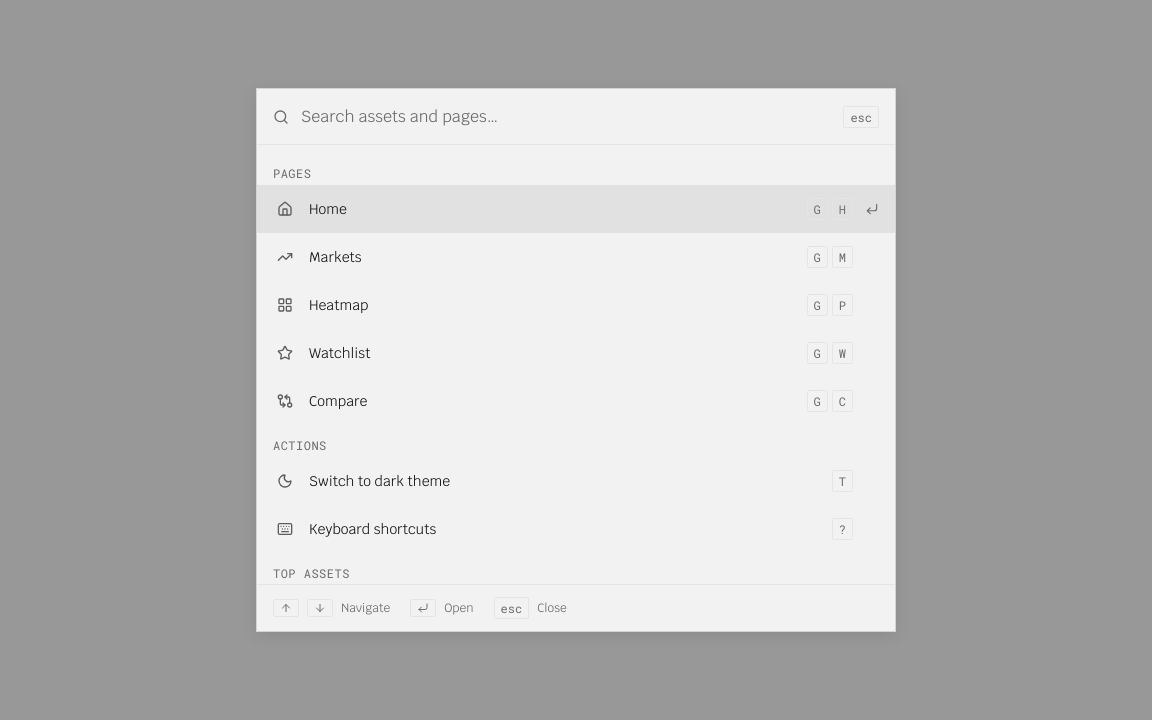
Scenario: CommandPalette: searching the whole market › adds assets from outside the top list
This screenshot has width=1152, height=720.
In the dropdown labelled "Search assets and pages": [566, 116] box [301,89,831,144], type "rare"
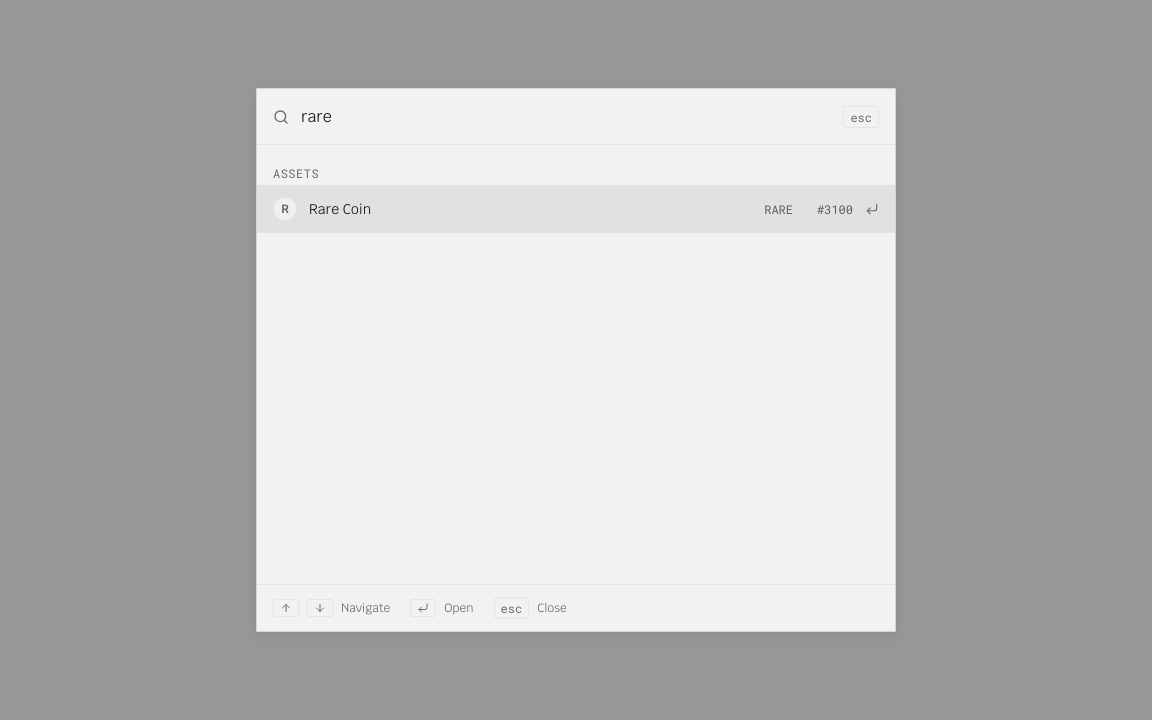
Check: the option "R Rare Coin RARE #3100" is shown, box [257,185,895,233]
